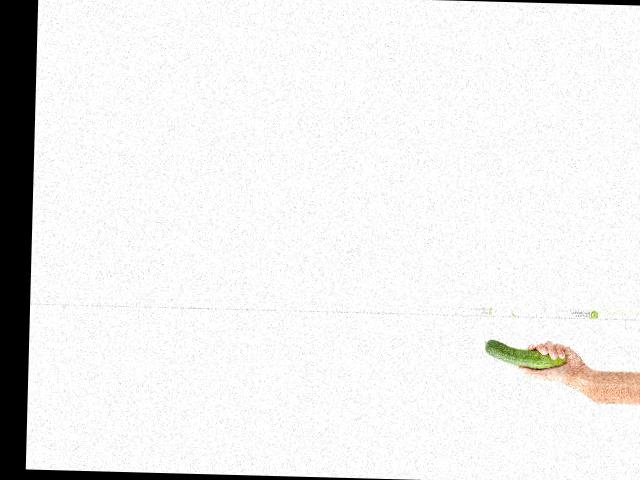cucumber: (484, 339, 566, 368)
